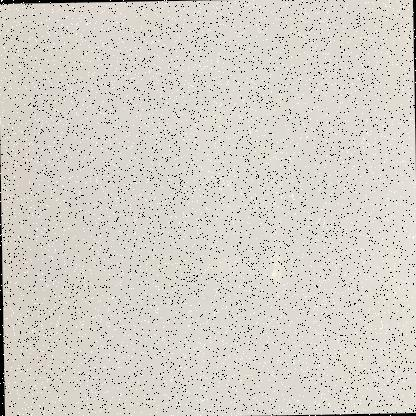Nocrack: (0, 7, 402, 415)
